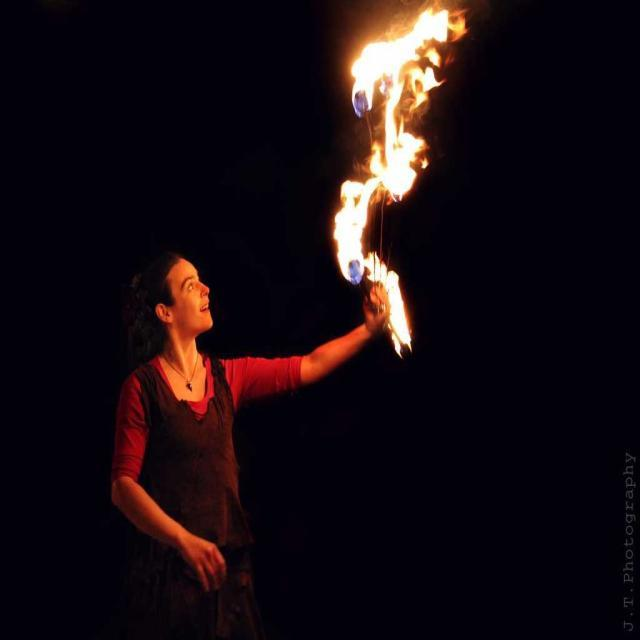Fire: (350, 44, 415, 80), (380, 141, 418, 194), (342, 198, 366, 270), (388, 278, 403, 340)
